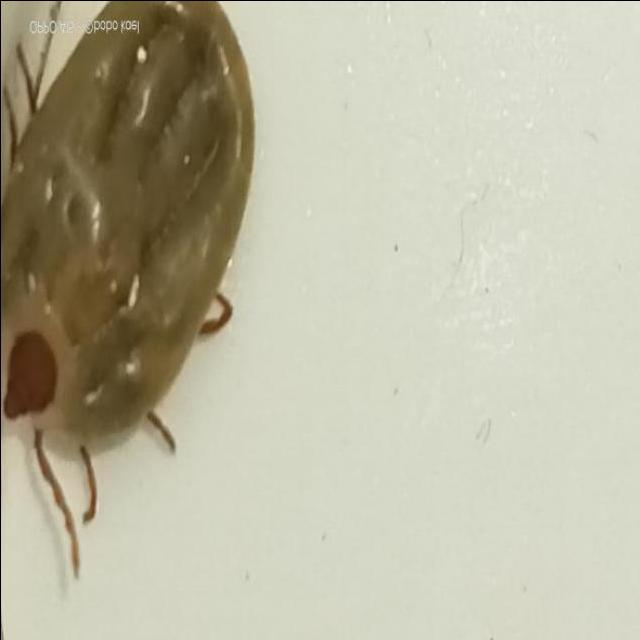Rhipicephalus Sanguineus-F-Fed: (0, 0, 254, 573)
